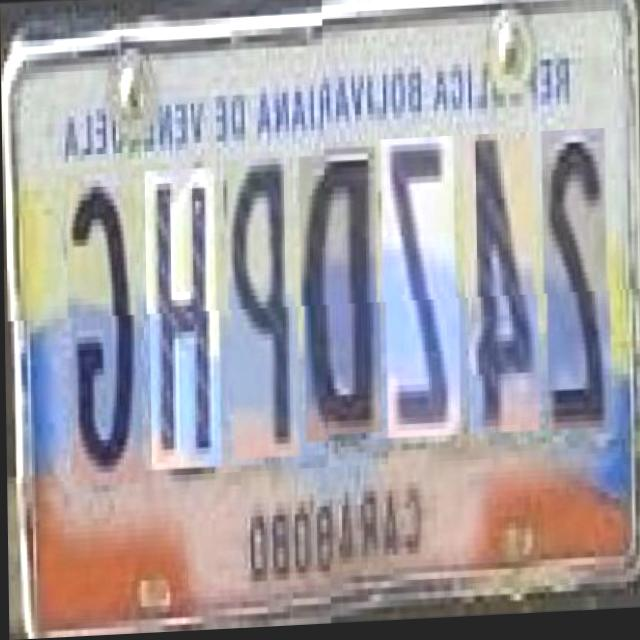2: (540, 141, 608, 443)
4: (463, 144, 535, 446)
d: (298, 157, 378, 447)
g: (65, 174, 138, 488)
h: (144, 170, 216, 472)
p: (226, 160, 295, 462)
z: (380, 147, 456, 450)
